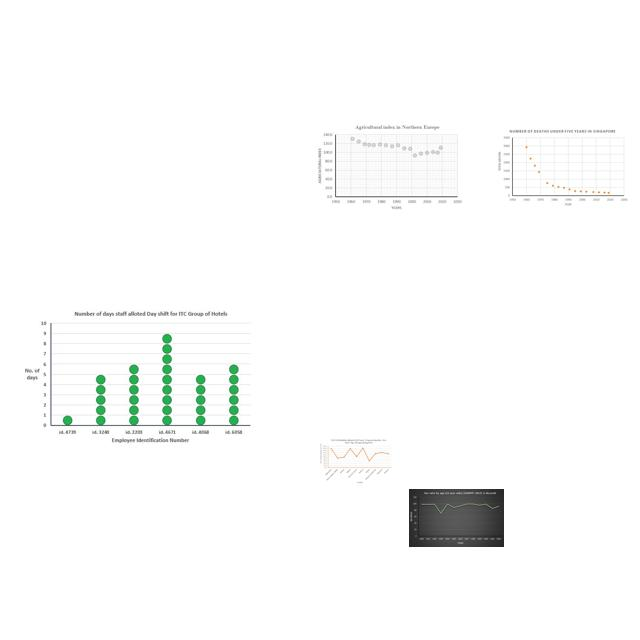Graph: (21, 306, 254, 449), (315, 122, 463, 210), (495, 127, 630, 210), (409, 489, 504, 547), (319, 438, 393, 485)
